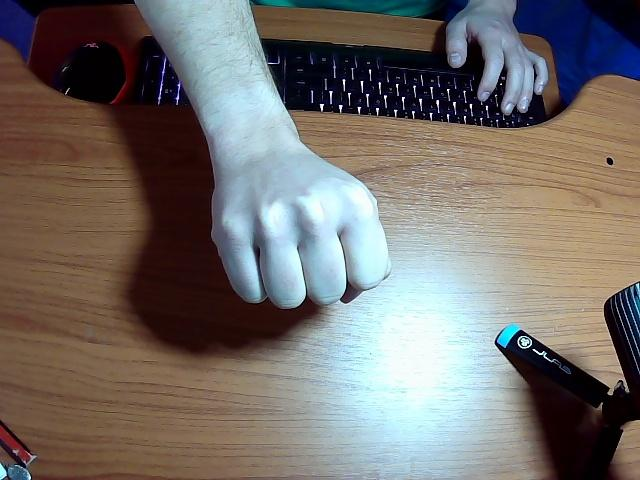rock: (140, 1, 389, 309), (448, 0, 549, 114)
